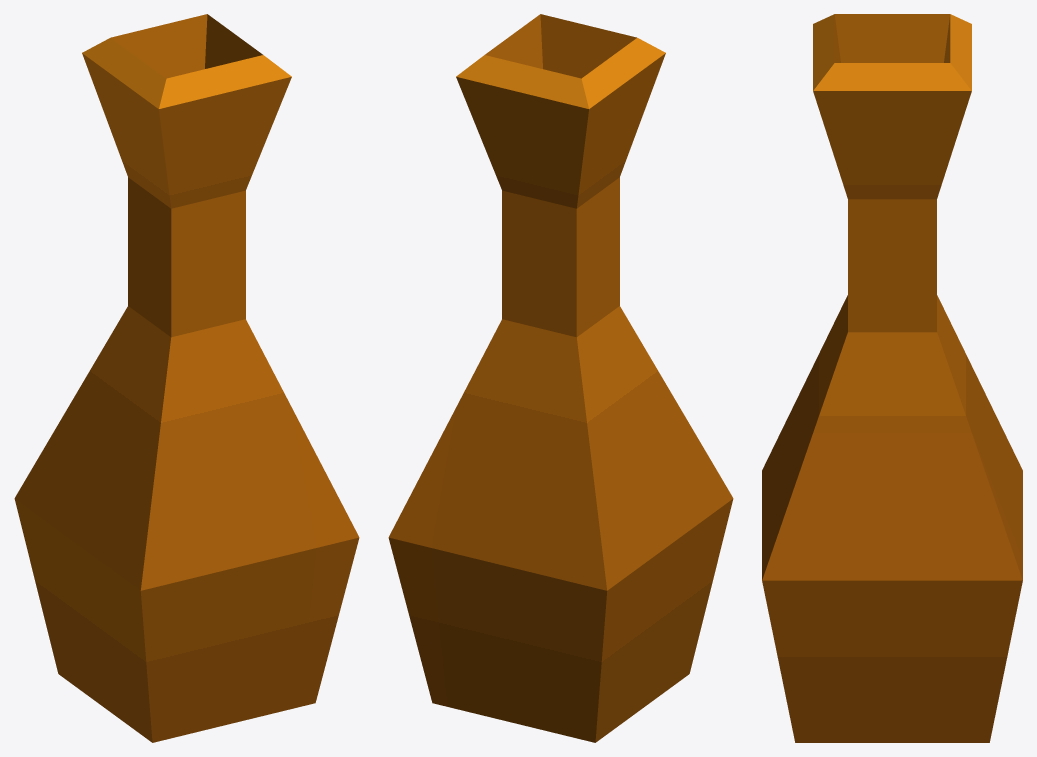
File: Vase1.fbx
The picture shows the model from 3 angles, left to right: view 1: azimuth 30°, elevation 25°; view 2: azimuth 150°, elevation 25°; view 3: azimuth 270°, elevation 25°; orthographic projection. The views are drawn at different scales.
Visible parts, largest first — view 1: Vase_v1; view 2: Vase_v1; view 3: Vase_v1.
Part boxes in pixels (x1,y1,x2,y2): Vase_v1: [14, 14, 359, 742]; Vase_v1: [388, 14, 733, 742]; Vase_v1: [762, 14, 1022, 742].
Size of the model in its own units: 23.81 by 66.81 by 23.81.
